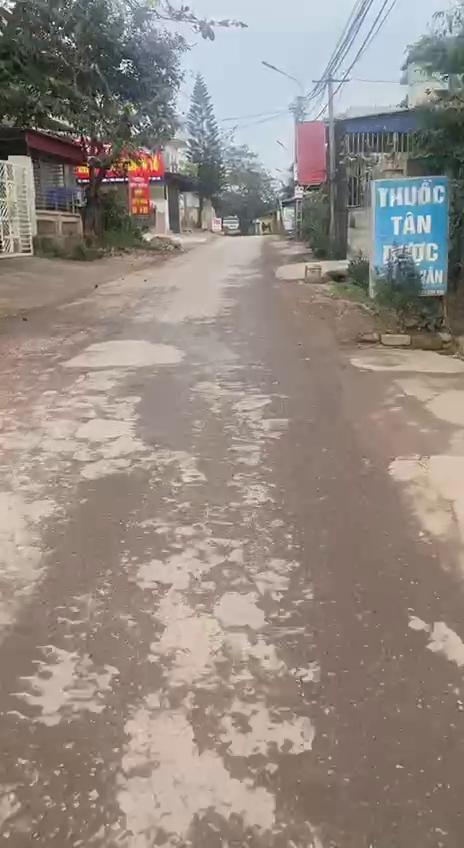pothole: (0, 706, 130, 848)
